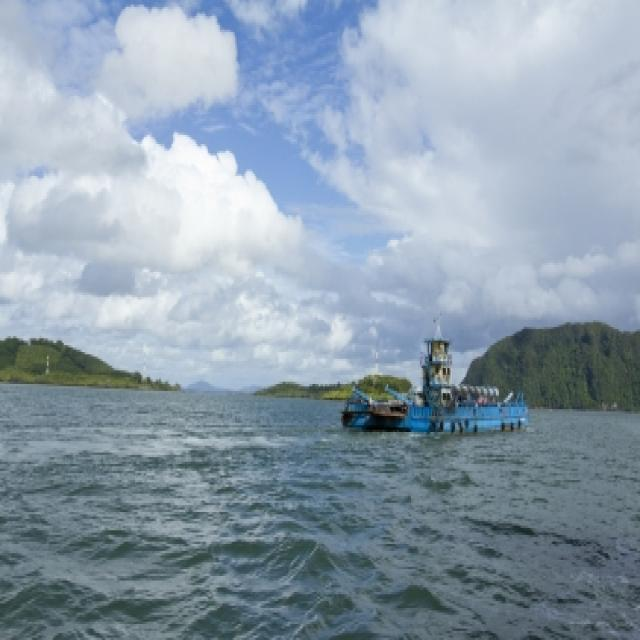fishing boat: (340, 325, 532, 444)
